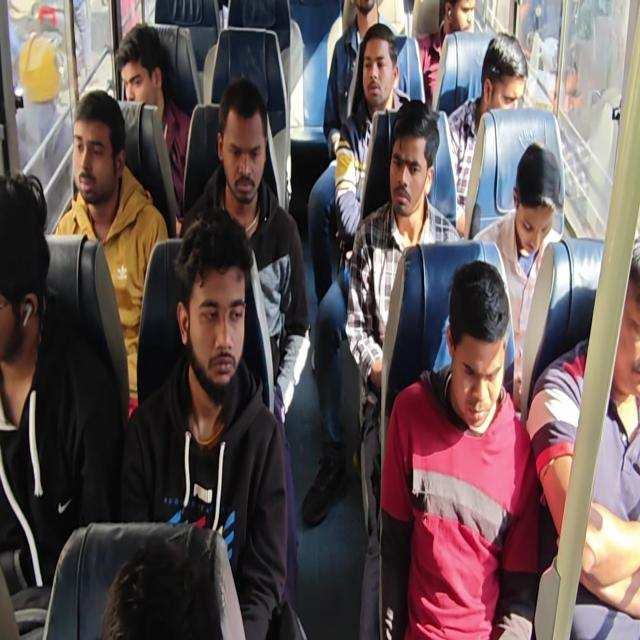person: (170, 214, 254, 404), (95, 535, 207, 640), (444, 276, 509, 426), (0, 166, 52, 352), (219, 78, 275, 208), (379, 99, 434, 229), (509, 131, 564, 249), (71, 90, 125, 196), (478, 26, 532, 116), (612, 236, 640, 399), (114, 15, 164, 105), (361, 22, 404, 108), (438, 3, 484, 41), (348, 0, 381, 17)
